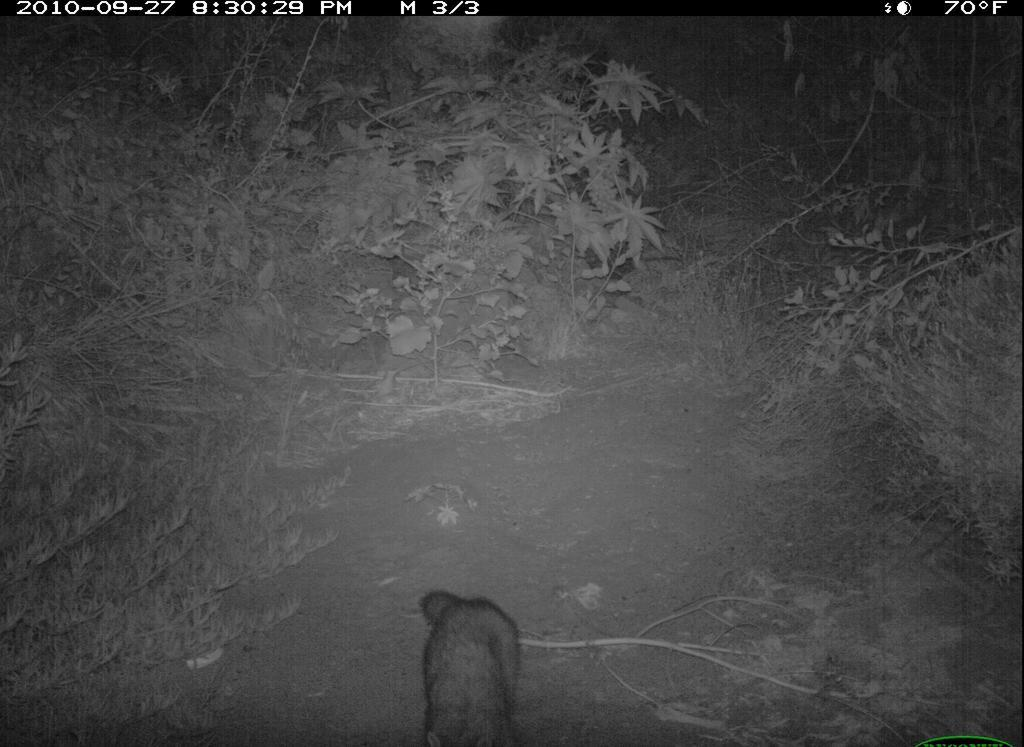raccoon: (411, 585, 538, 747)
